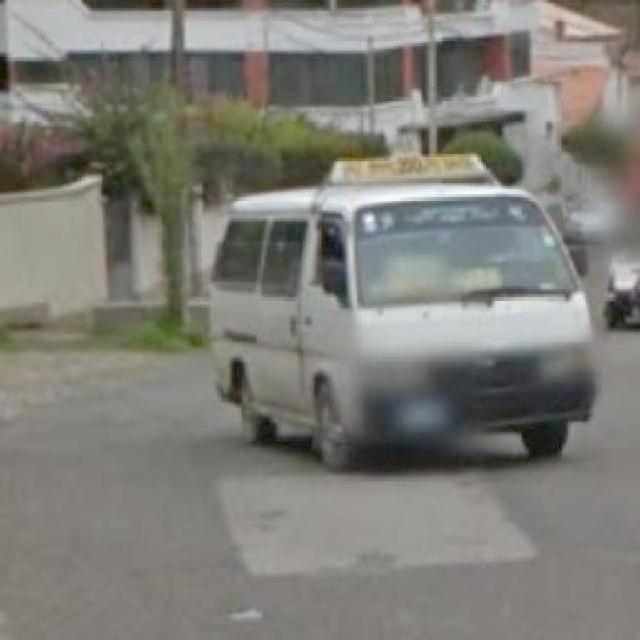car: (210, 164, 598, 461)
